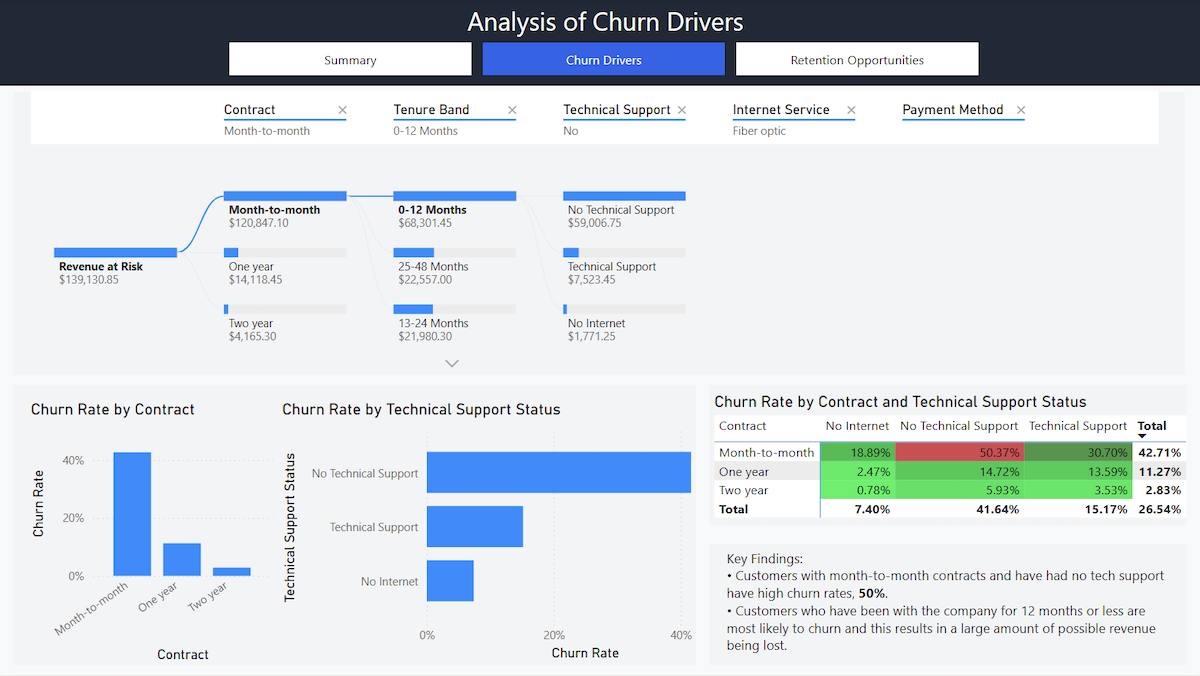

This screenshot's page, from the dashboard's own definition file:
{"tool":"powerbi","page":{"name":"Churn Drivers","canvas":[1280,720],"ordinal":1},"visuals":[{"type":"shape","box":[0,0,1280.5,94.4],"z":0,"group":"g1"},{"type":"shape","box":[767.7,580.6,491.2,128.5],"z":0},{"type":"textbox","box":[396.9,2.1,494.6,45.9],"z":1000,"group":"g1"},{"type":"shape","box":[768,411.7,491.4,149.7],"z":1000},{"type":"pageNavigator","box":[243.5,46.7,798.3,37.1],"z":2000,"group":"g1"},{"type":"shape","box":[16.3,411.7,733.8,297.8],"z":2000},{"type":"shape","box":[16.3,100.8,1242.6,300],"z":3000},{"type":"clusteredColumnChart","fields":{"Y":["Telco.Churn Rate"],"Category":["Telco.Contract"]},"box":[29.3,427.8,266.7,283],"z":4000},{"type":"barChart","title":"Churn Rate by Technical Support Status","fields":{"Y":["Telco.Churn Rate"],"Category":["Telco.TechSupport"]},"box":[296,427.8,458.7,281.4],"z":5000},{"type":"pivotTable","fields":{"Rows":["Telco.Contract"],"Values":["Telco.Churn Rate"],"Columns":["Telco.Tech Support Group"]},"box":[810.3,427.9,413.3,131.8],"z":6000},{"type":"decompositionTreeVisual","fields":{"Analyze":["Telco.Revenue At Risk"],"ExplainBy":["Telco.Contract","Telco.Tenure Band","Telco.Tech Support Group","Telco.InternetService","Telco.PaymentMethod"]},"box":[29.3,94.3,1206.8,317.2],"z":7000},{"type":"textbox","box":[767.7,580.6,479.8,130.1],"z":8000},{"type":"group","id":"g1","title":"Group 1","box":[0,0,1280.5,94.4],"z":9000}]}

Visuals, with their boxes in screenshot pixels (x1, y1, x2, y2), scaled from the page's 1280x720 canvas onto the 1200x676 screenshot:
shape: (0,0,1199,89)
shape: (720,545,1180,666)
textbox: (372,2,836,45)
shape: (720,387,1181,527)
pageNavigator: (228,44,977,79)
shape: (15,387,703,666)
shape: (15,95,1180,376)
clusteredColumnChart - Telco.Churn Rate x Telco.Contract: (27,402,278,667)
"Churn Rate by Technical Support Status" barChart: (278,402,708,666)
pivotTable - Telco.Contract x Telco.Churn Rate: (760,402,1147,525)
decompositionTreeVisual - Telco.Revenue At Risk x Telco.Contract: (27,89,1159,386)
textbox: (720,545,1170,667)
"Group 1" group: (0,0,1199,89)
